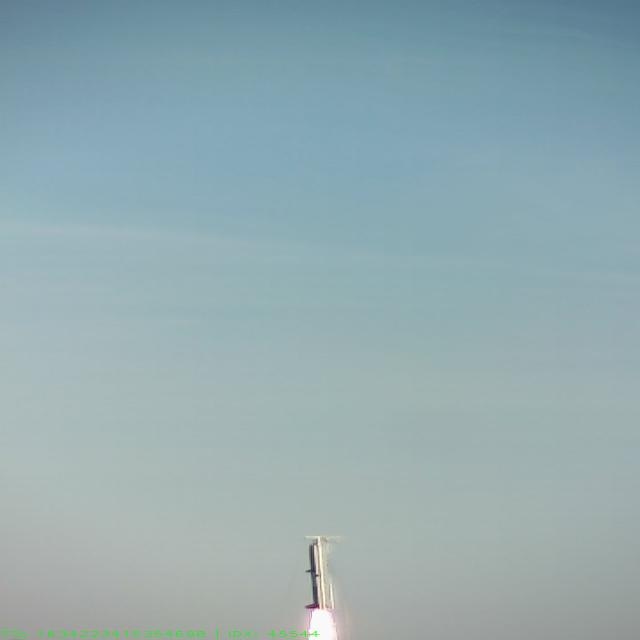Rocket: (304, 544, 330, 610)
